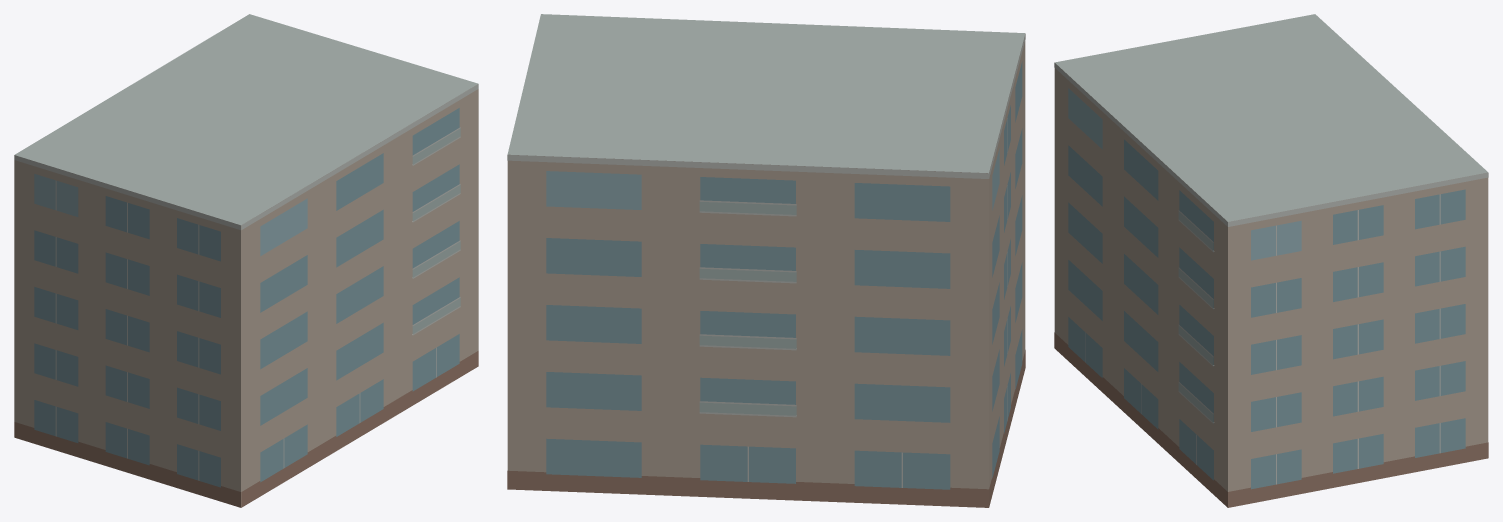
Rendered from survey-upis-32772935.glb.
3 views of the same model, side by side, from view 1: azimuth 30°, elevation 25°; view 2: azimuth 150°, elevation 25°; view 3: azimuth 270°, elevation 25° (orthographic). The views are drawn at different scales.
Visible parts, largest first — view 1: survey-upis-32772935.tmp; view 2: survey-upis-32772935.tmp; view 3: survey-upis-32772935.tmp.
Part boxes in pixels (x1=…): survey-upis-32772935.tmp: x1=14, y1=14, x2=478, y2=507; survey-upis-32772935.tmp: x1=507, y1=14, x2=1025, y2=507; survey-upis-32772935.tmp: x1=1054, y1=14, x2=1488, y2=507.
Bounding box in the file's own units: 21.39 × 13.7 × 18.86.
